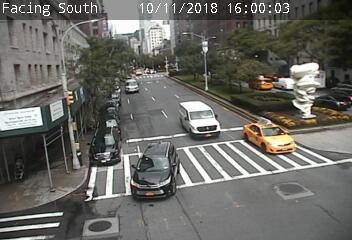car: (131, 141, 179, 200), (244, 122, 296, 155), (180, 101, 220, 138)
